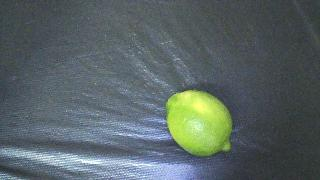LOCAL: (166, 90, 232, 156)
